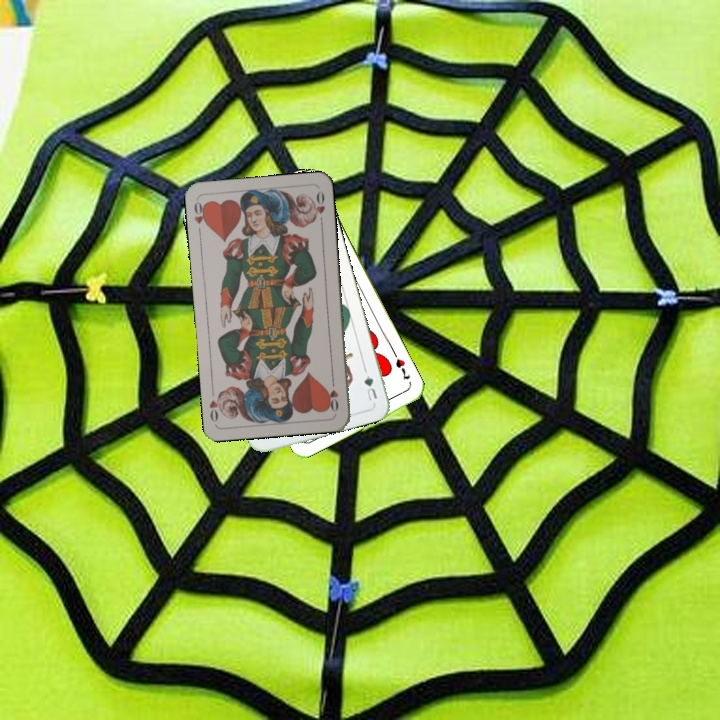GU: (360, 371, 380, 403)
H7: (391, 354, 413, 382)
HO: (190, 197, 210, 237), (325, 375, 341, 415)
